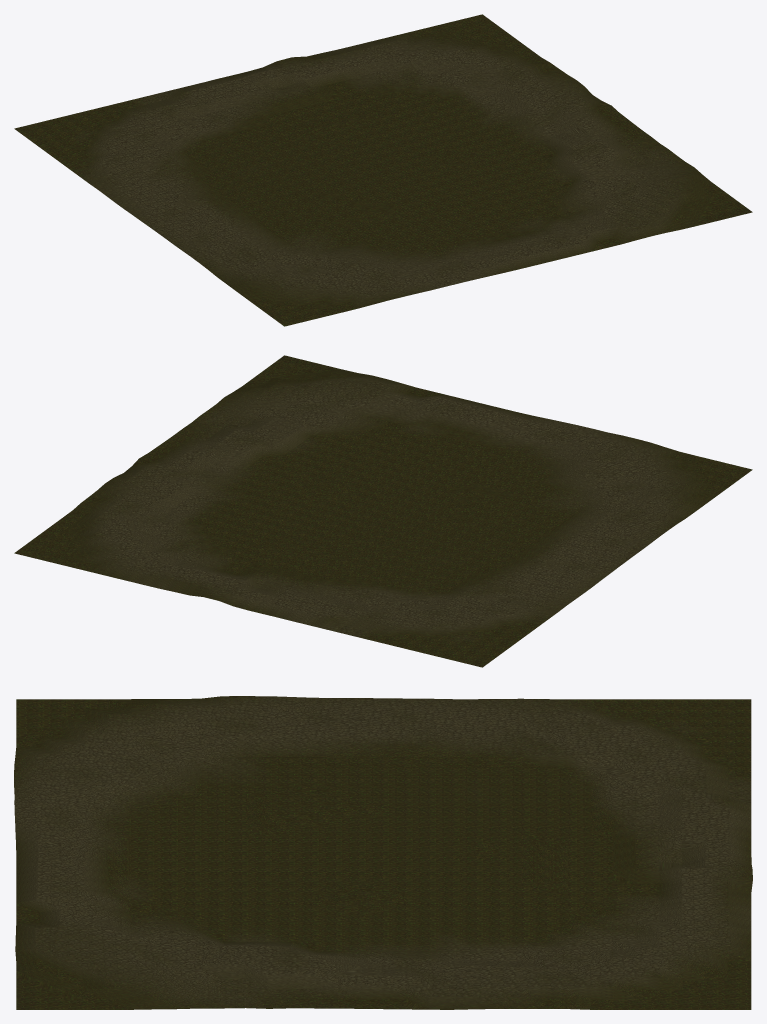
3 views of the same model, one above another, from view 1: azimuth 30°, elevation 25°; view 2: azimuth 150°, elevation 25°; view 3: azimuth 270°, elevation 25° (orthographic). The views are drawn at different scales.
Parts seen in each view (by area): view 1: Plane; view 2: Plane; view 3: Plane.
Part boxes in pixels (bbox=[...]): Plane: bbox=[14, 14, 752, 326]; Plane: bbox=[14, 355, 752, 667]; Plane: bbox=[14, 696, 752, 1009].
Size of the model in its own units: 50.31 by 0.4671 by 50.26.
Materials: 1 (1 with a texture image).
